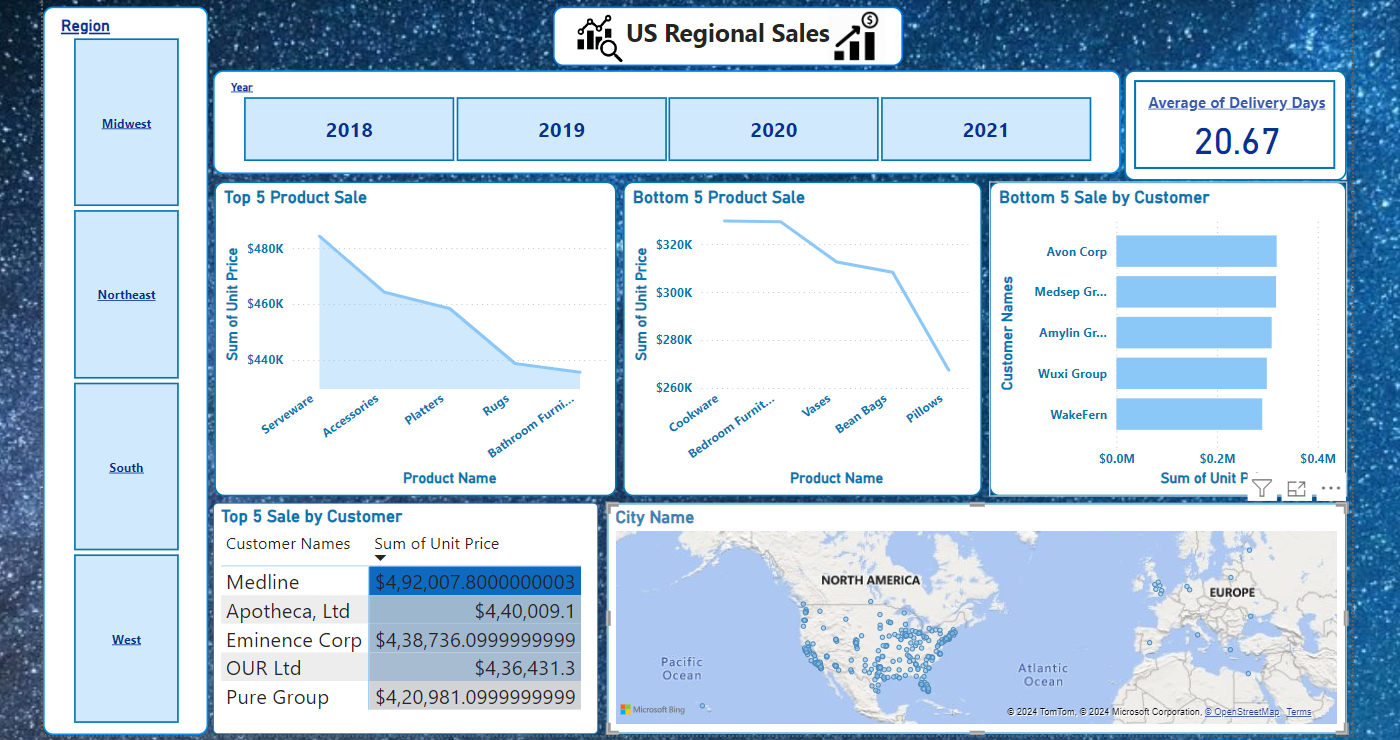

The dashboard page shown, as its layout file describes it:
{"tool":"powerbi","page":{"name":"Page 1","canvas":[1280,720],"ordinal":0},"visuals":[{"type":"slicer","fields":{"Values":["Sales.Year"]},"box":[166.3,69.7,887.8,101.5],"z":0},{"type":"pivotTable","title":"Top 5 Sale by Customer","fields":{"Rows":["Customers.Customer Names"],"Values":["Sum(Sales.Unit Price)"]},"box":[166.3,493,376.6,226.2],"z":1000},{"type":"barChart","title":"Bottom 5 Sale by Customer","fields":{"Category":["Customers.Customer Names"],"Y":["Sum(Sales.Unit Price)"]},"box":[925.7,178.8,349.7,308.2],"z":2000},{"type":"areaChart","title":"Top 5 Product Sale","fields":{"Category":["Products.Product Name"],"Y":["Sum(Sales.Unit Price)"]},"box":[167.5,178.3,393.8,308.2],"z":3000},{"type":"map","fields":{"Category":["Locations.City Name"]},"box":[551.5,493,723.9,226.2],"z":4000},{"type":"lineChart","title":"Bottom 5 Product Sale","fields":{"Category":["Products.Product Name"],"Y":["Sum(Sales.Unit Price)"]},"box":[567.4,178.8,351,308.2],"z":5000},{"type":"cardVisual","fields":{"Data":["Avg(Sales.Delivery Days)"]},"box":[1057.8,69.7,217.7,107.6],"z":6000},{"type":"slicer","fields":{"Values":["Sales_Team.Region"]},"box":[0,7.3,161.4,712.9],"z":7000},{"type":"textbox","box":[498.9,7.3,342.4,58.7],"z":8000},{"type":"image","box":[755.7,2.4,79.5,67.3],"z":9000},{"type":"image","box":[495.2,2.4,94.2,74.6],"z":10000}]}

Visuals, with their boxes in screenshot pixels (x1, y1, x2, y2):
slicer - Sales.Year: 209 71 1109 174
"Top 5 Sale by Customer" pivotTable: 209 500 590 729
"Bottom 5 Sale by Customer" barChart: 978 181 1333 494
"Top 5 Product Sale" areaChart: 210 181 609 493
map - Locations.City Name: 599 500 1333 729
"Bottom 5 Product Sale" lineChart: 615 181 971 494
cardVisual - Avg(Sales.Delivery Days): 1112 71 1333 180
slicer - Sales_Team.Region: 40 7 204 730
textbox: 546 7 893 67
image: 806 2 887 71
image: 542 2 638 78
